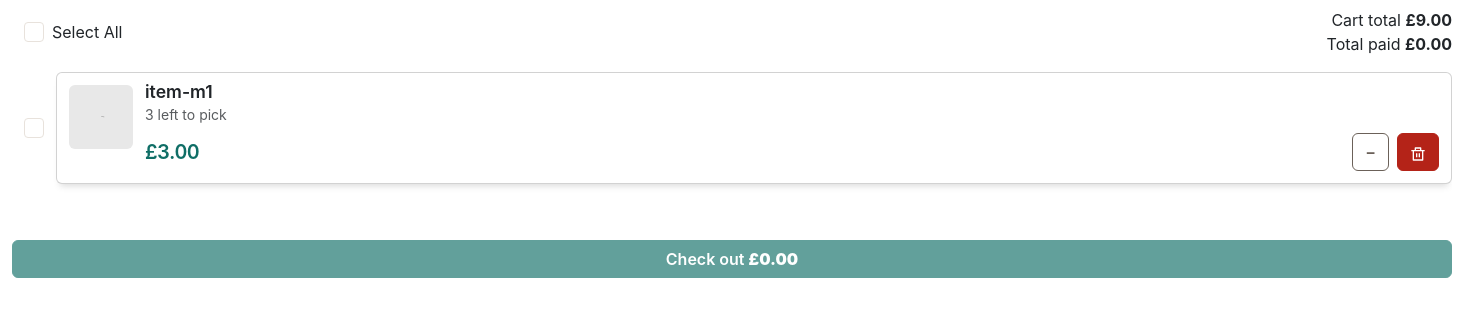
changing the table's order from the cart › the bin's refusals are shown, not swallowed
What coordinates should you click on to do the following:
click the button named "Remove item-m1 from the cart"
I would click on:
 (1418, 152)
Its box is [1397,133,1439,171].
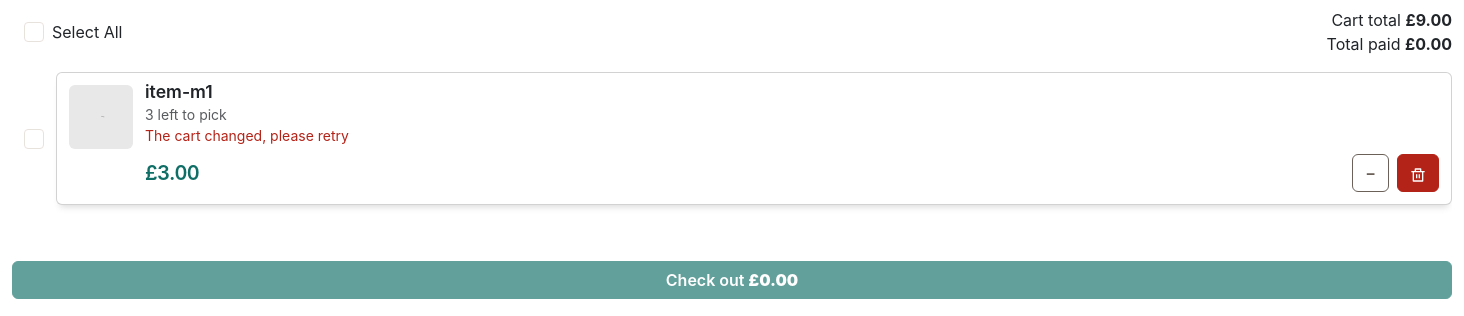
Check: the text "The cart changed, please retry" is shown, box [145,127,349,144]
